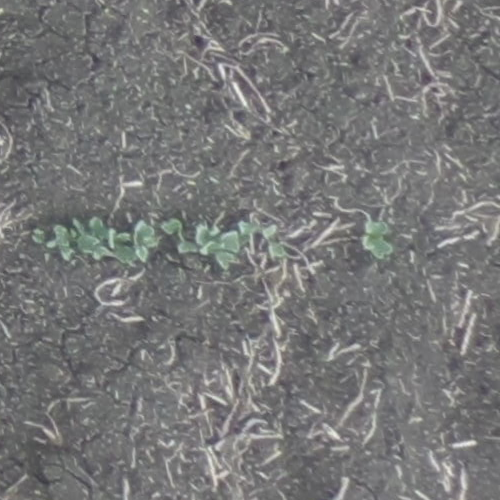plant: (158, 218, 291, 269), (30, 216, 156, 267), (359, 221, 395, 260)
